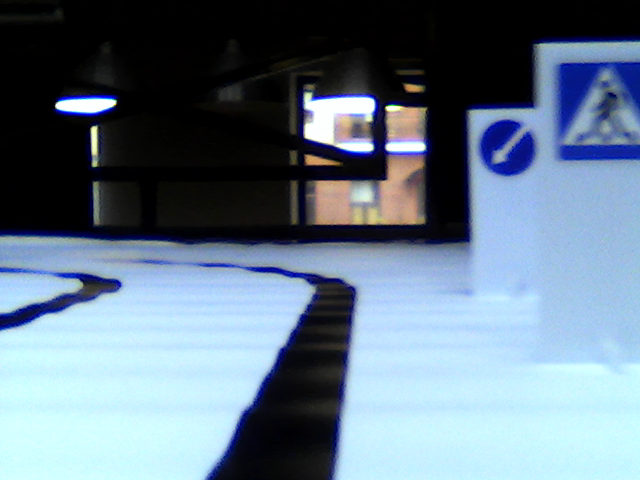pesh: (554, 61, 635, 161)
prep: (478, 118, 534, 177)
